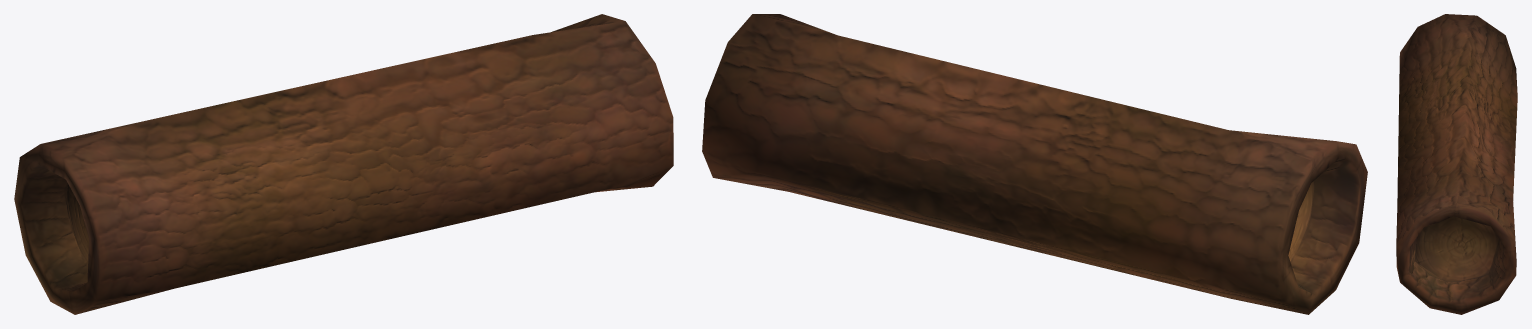
Rendered from log_01.FBX.
3 renders of one model, left to right at view 1: azimuth 30°, elevation 25°; view 2: azimuth 150°, elevation 25°; view 3: azimuth 270°, elevation 25°, orthographic. The views are drawn at different scales.
Visible parts, largest first — view 1: log_01; view 2: log_01; view 3: log_01.
Boxes of the visible parts, x1=… form: log_01: x1=14, y1=14, x2=673, y2=314; log_01: x1=702, y1=14, x2=1367, y2=314; log_01: x1=1396, y1=14, x2=1517, y2=314.
Size of the model in its own units: 123 by 35.19 by 33.46.
